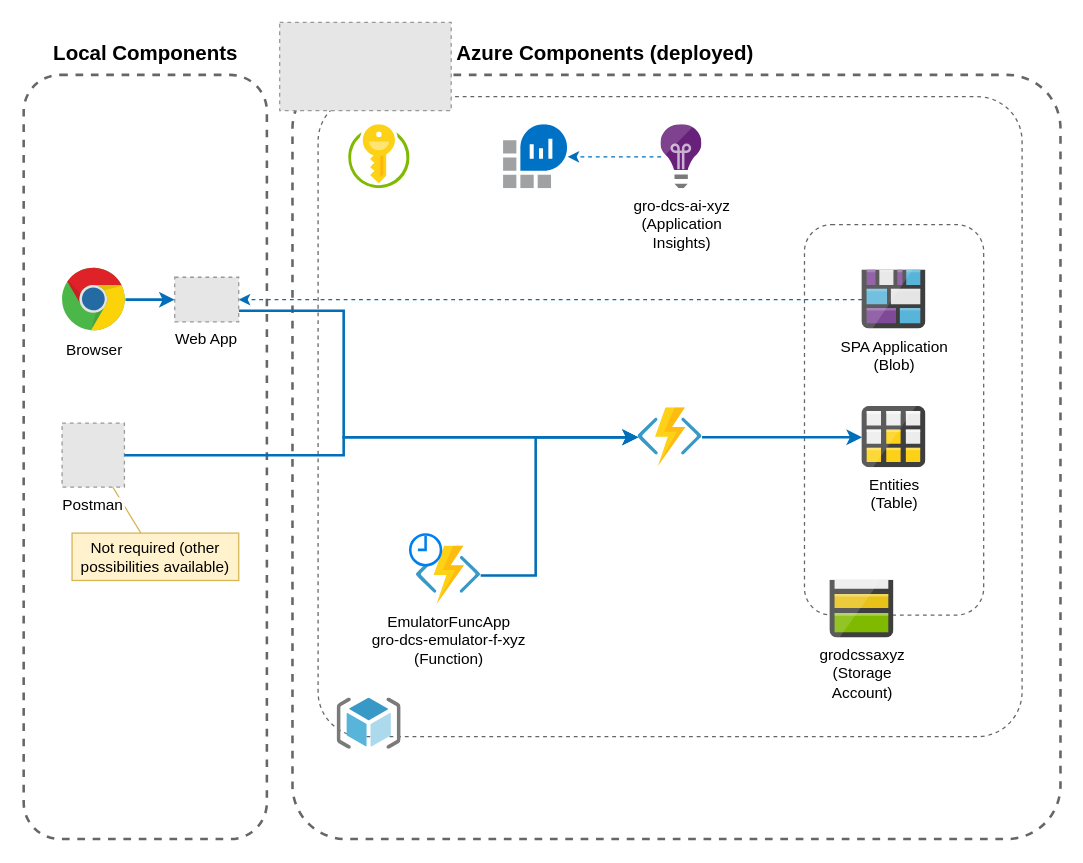
Image size: 1083x863. Some labels were removed from this diagram. Grey dashed boxes stand in for pictures. The centre of each missing label's shape, as x and y in pixels:
gro-dcs-kv-xyz (Key Vault): point 379,156
gro-dcs-law-xyz (Log Analytics Workspace): point 535,156
gro-dcs-xyz (Resource Group): point 369,723
ServiceFuncApp gro-dcs-service-f-xyz (Function): point 669,436
